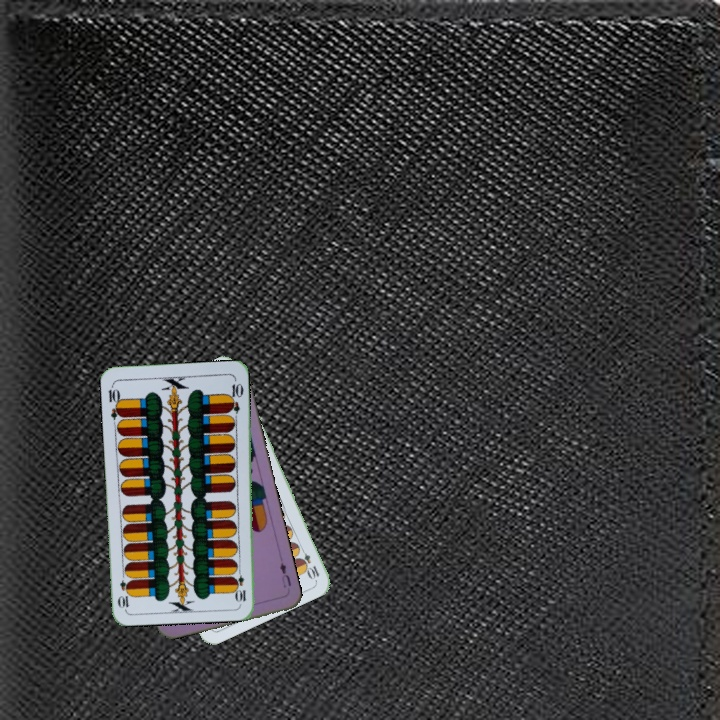E10: (295, 543, 322, 582), (104, 381, 125, 422), (233, 564, 248, 604)
EU: (276, 558, 294, 590)
